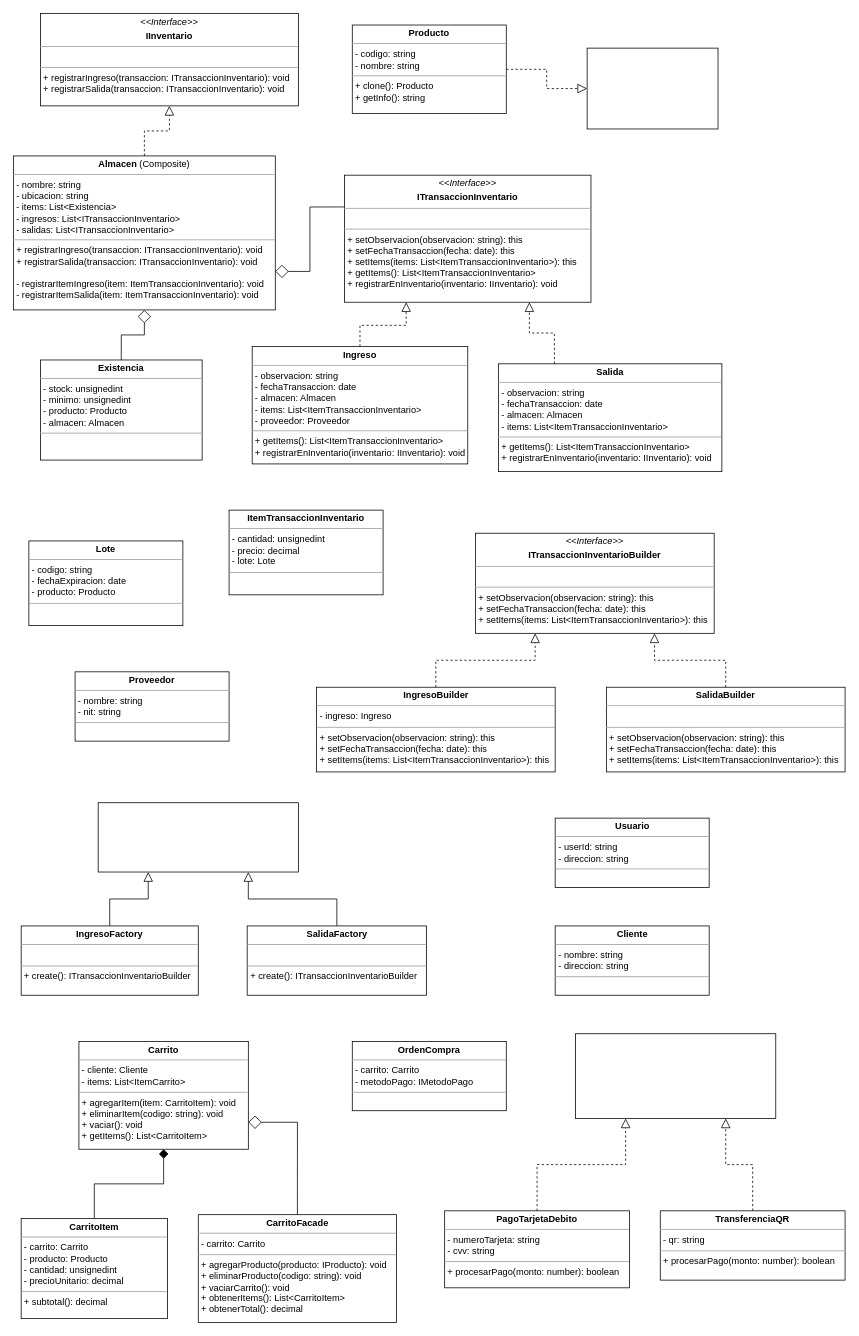
This 859x1336 diagram has some shape labels left out. Here are the shapes that lost their labels. From the top down, the box of each, then its label:
(586, 47, 718, 129): <<Interface>> IClonable<T> + clone(): T
(97, 802, 298, 872): TransaccionInventario Factory + create(): ITransaccionInventarioBuilder
(575, 1033, 776, 1118): <<Interface>> IMetodoPagoStrategy + procesarPago(monto: number): boolean
